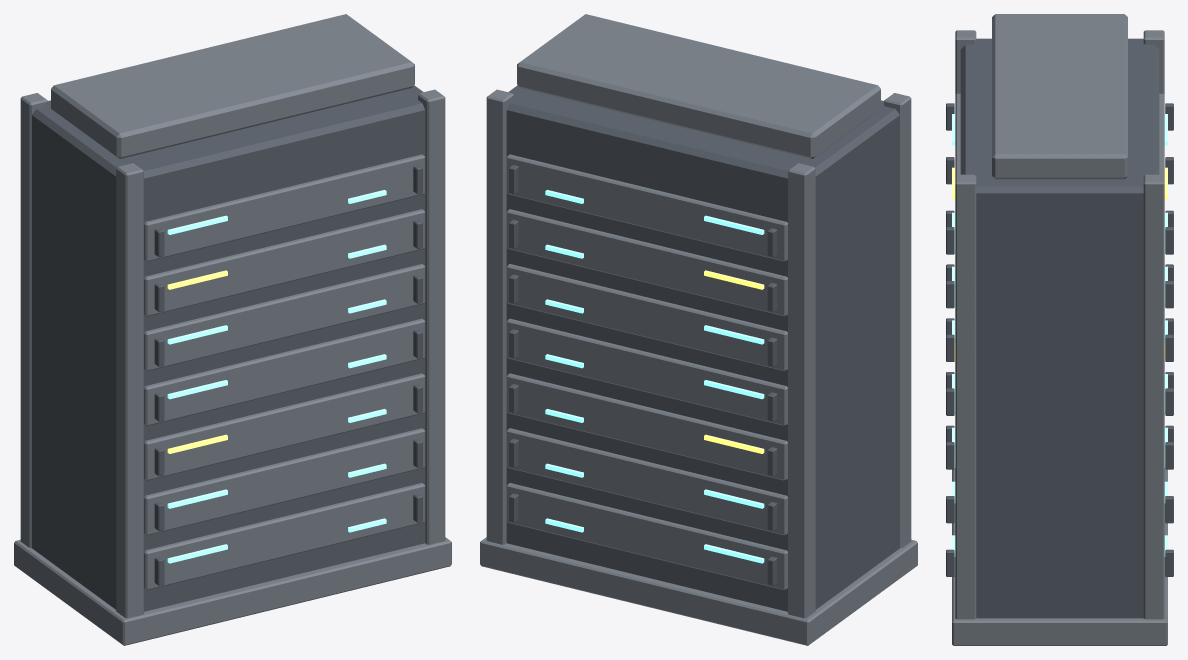
File: oil_server_rack.glb
3 views of the same model, side by side, from view 1: azimuth 30°, elevation 25°; view 2: azimuth 150°, elevation 25°; view 3: azimuth 270°, elevation 25° (orthographic).
Visible parts, largest first — view 1: Chassis, CableTray, BasePlinth, Col_-0.98_-0.54, Blade_1, Blade_4, Blade_2, Blade_5, Blade_6, Blade_0, Blade_3, Col_0.98_-0.54 (+1 smaller); view 2: Chassis, CableTray, BasePlinth, Col_-0.98_0.54, Blade_1, Blade_4, Blade_2, Blade_5, Blade_6, Blade_0, Blade_3, Col_0.98_0.54 (+1 smaller); view 3: Chassis, CableTray, Col_0.98_-0.54, Col_0.98_0.54, BasePlinth, Blade_6, Col_-0.98_-0.54, Col_-0.98_0.54.
Part boxes in pixels (left/top/right/bottom): Chassis: left=32, top=85, right=425, bottom=611; CableTray: left=51, top=14, right=414, bottom=158; BasePlinth: left=14, top=537, right=451, bottom=645; Col_-0.98_-0.54: left=116, top=163, right=143, bottom=618; Blade_1: left=144, top=428, right=425, bottom=535; Blade_4: left=144, top=264, right=425, bottom=371; Blade_2: left=144, top=373, right=425, bottom=480; Blade_5: left=144, top=209, right=425, bottom=316; Blade_6: left=144, top=154, right=425, bottom=261; Blade_0: left=144, top=483, right=425, bottom=590; Blade_3: left=144, top=318, right=425, bottom=425; Col_0.98_-0.54: left=418, top=89, right=445, bottom=544; Chassis: left=506, top=85, right=899, bottom=611; CableTray: left=517, top=14, right=880, bottom=158; BasePlinth: left=480, top=537, right=917, bottom=645; Col_-0.98_0.54: left=788, top=163, right=815, bottom=618; Blade_1: left=506, top=428, right=787, bottom=535; Blade_4: left=506, top=264, right=787, bottom=371; Blade_2: left=506, top=373, right=787, bottom=480; Blade_5: left=506, top=209, right=787, bottom=316; Blade_6: left=506, top=154, right=787, bottom=261; Blade_0: left=506, top=483, right=787, bottom=590; Blade_3: left=506, top=318, right=787, bottom=425; Col_0.98_0.54: left=486, top=89, right=513, bottom=544; Chassis: left=960, top=38, right=1159, bottom=618; CableTray: left=992, top=14, right=1127, bottom=179; Col_0.98_-0.54: left=955, top=174, right=976, bottom=619; Col_0.98_0.54: left=1143, top=174, right=1164, bottom=619; BasePlinth: left=952, top=468, right=1167, bottom=645; Blade_6: left=955, top=93, right=1164, bottom=175; Col_-0.98_-0.54: left=955, top=30, right=976, bottom=94; Col_-0.98_0.54: left=1143, top=30, right=1164, bottom=94.
Size of the model in its own units: 2.14 by 3.06 by 1.31.
